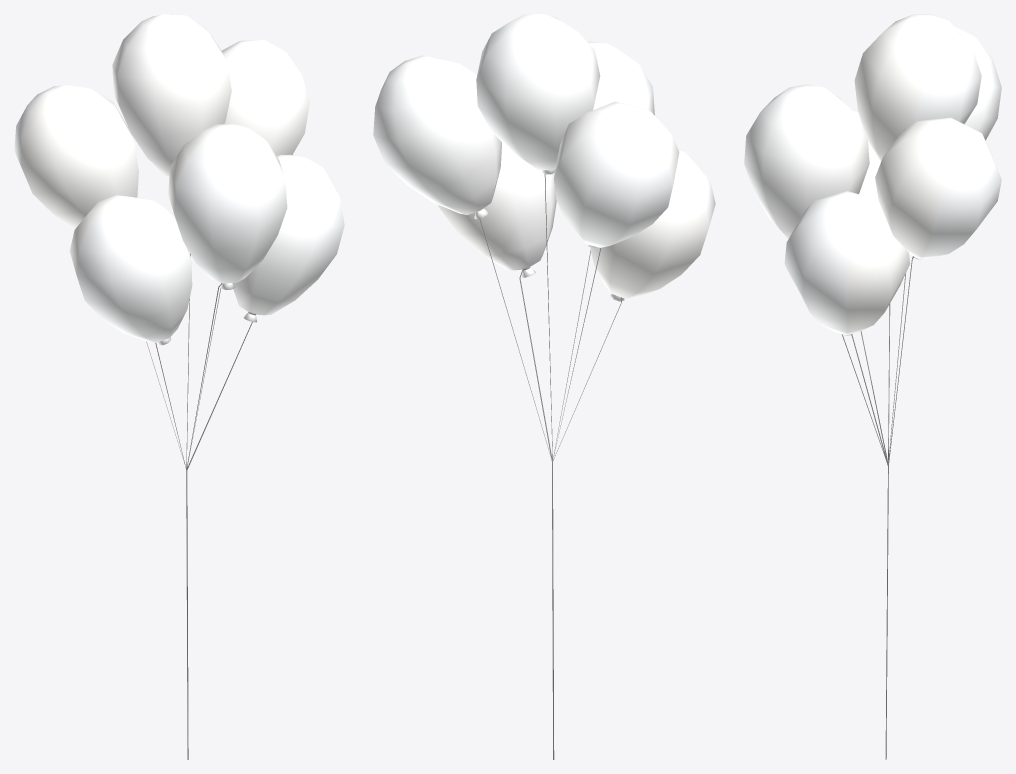
The model's file is BalloonBunchWhite.glb.
3 renders of one model, left to right at view 1: azimuth 30°, elevation 25°; view 2: azimuth 150°, elevation 25°; view 3: azimuth 270°, elevation 25°, orthographic. The views are drawn at different scales.
Visible parts, largest first — view 1: BalloonBunchWhite; view 2: BalloonBunchWhite; view 3: BalloonBunchWhite.
Boxes of the visible parts, x1,y1,x2,y2 form: BalloonBunchWhite: [14, 14, 344, 759]; BalloonBunchWhite: [373, 14, 715, 759]; BalloonBunchWhite: [744, 14, 1001, 759].
Bounding box in the file's own units: 1.32 × 3.26 × 1.03.
Materials: 1 (1 with a texture image).
